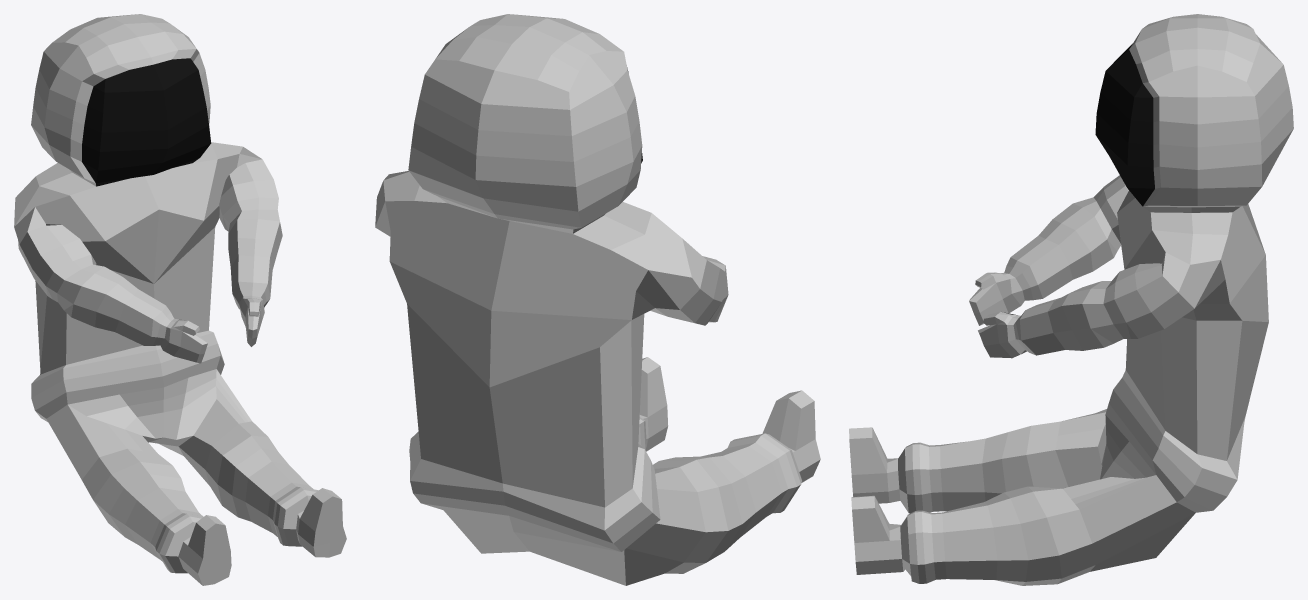
File: Player_Astronaut.fbx
The picture shows the model from 3 angles, left to right: view 1: azimuth 30°, elevation 25°; view 2: azimuth 150°, elevation 25°; view 3: azimuth 270°, elevation 25°; orthographic projection. The views are drawn at different scales.
Parts seen in each view (by area): view 1: SM_Astronaut.001; view 2: SM_Astronaut.001; view 3: SM_Astronaut.001.
Boxes of the visible parts, x1=… form: SM_Astronaut.001: x1=14, y1=14, x2=346, y2=585; SM_Astronaut.001: x1=375, y1=14, x2=820, y2=585; SM_Astronaut.001: x1=849, y1=14, x2=1293, y2=585.
Size of the model in its own units: 158 by 281 by 215.
